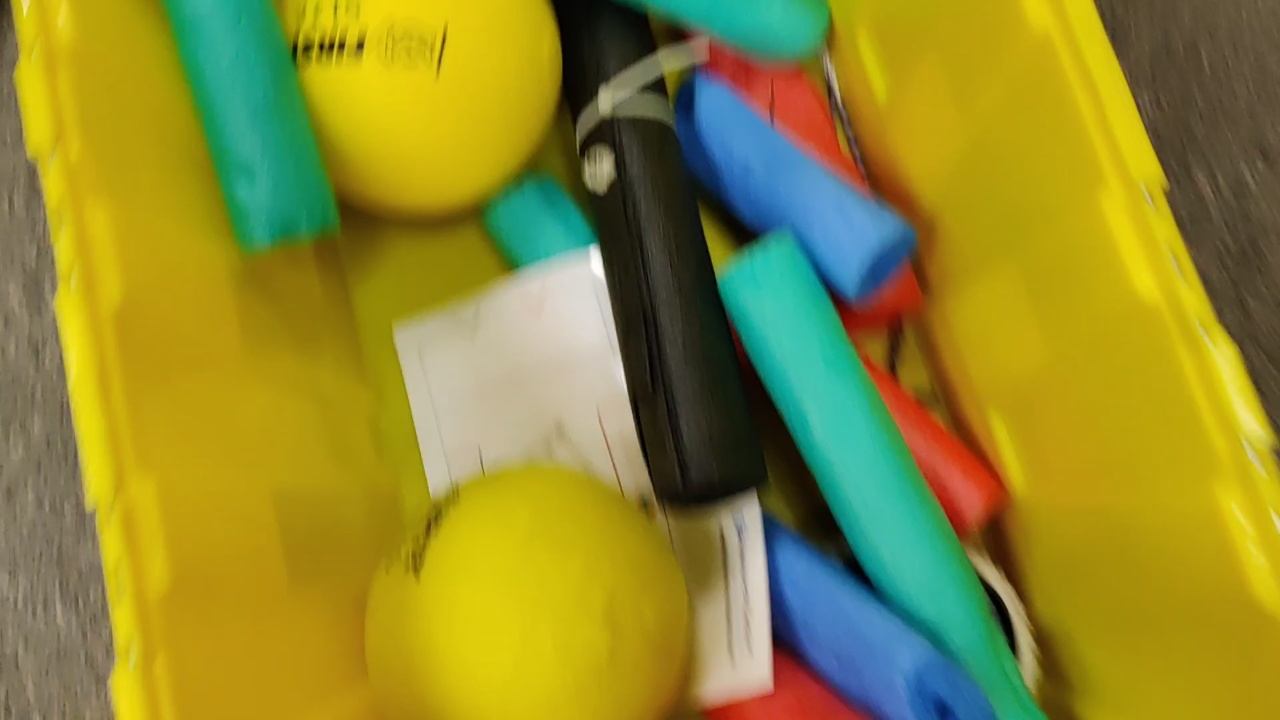Ball: (361, 467, 689, 719), (260, 1, 563, 215)
